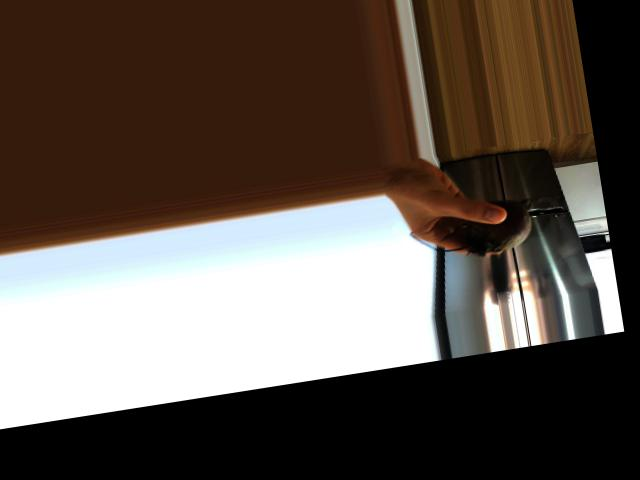beet: (408, 194, 547, 266)
